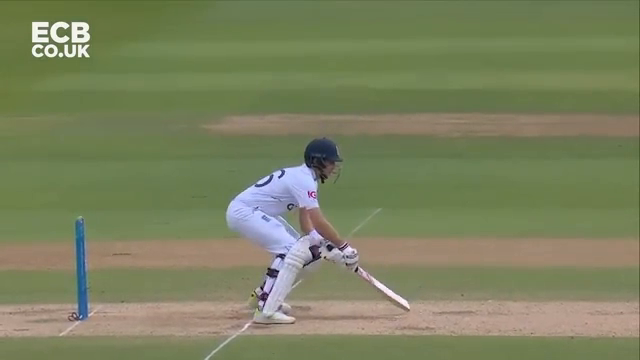batsman: (225, 136, 414, 323)
